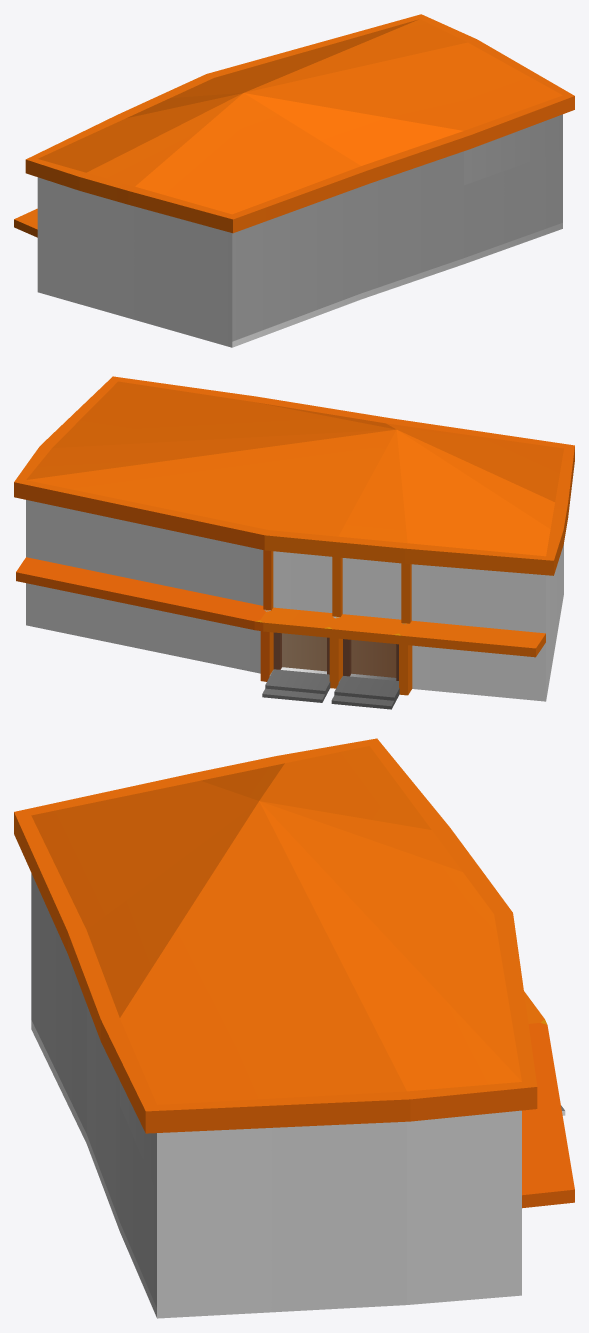
File: kantor pos.fbx
3 renders of one model, top to bottom at view 1: azimuth 30°, elevation 25°; view 2: azimuth 150°, elevation 25°; view 3: azimuth 270°, elevation 25°, orthographic. The views are drawn at different scales.
Parts seen in each view (by area): view 1: kabtor pos; view 2: kabtor pos; view 3: kabtor pos.
Boxes of the visible parts, <box> form: kabtor pos: <box>14,14,574,347</box>; kabtor pos: <box>14,376,574,709</box>; kabtor pos: <box>14,738,574,1318</box>.
Bounding box in the file's own units: 5720 × 2093 × 3635.
